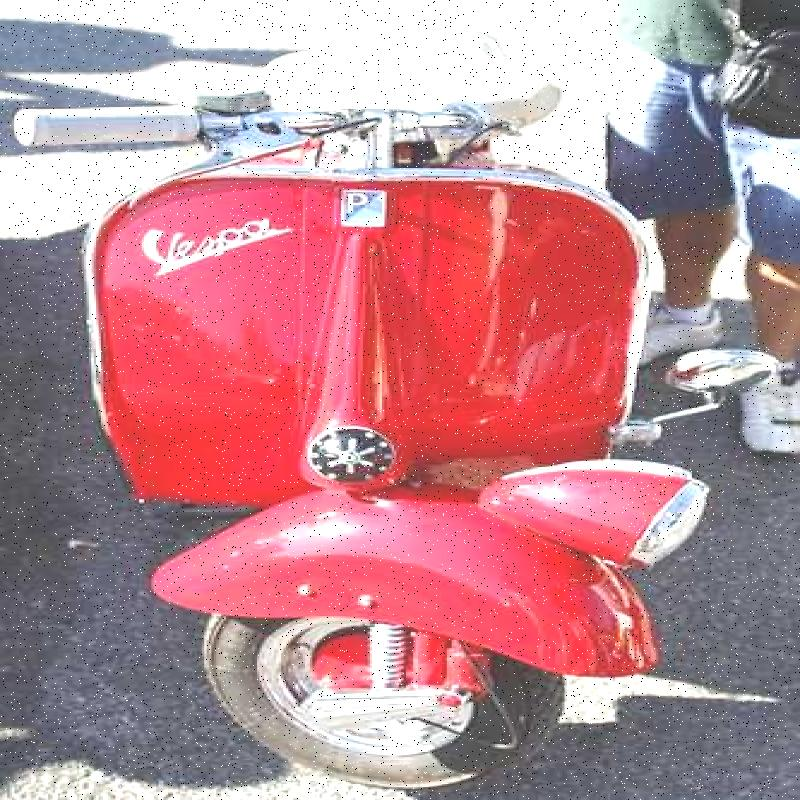bike: (17, 20, 709, 760)
